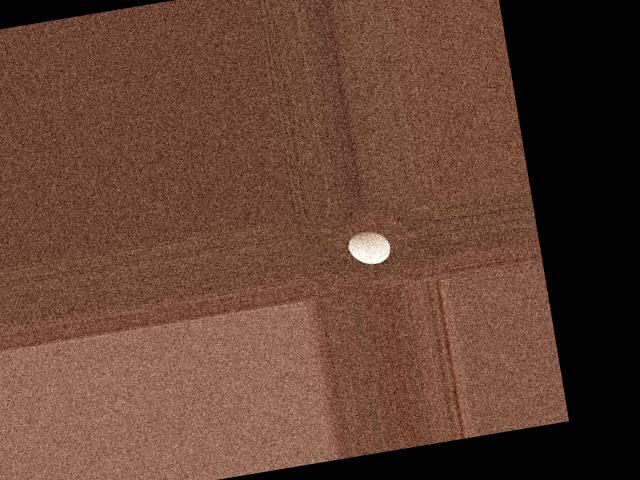egg: (345, 228, 391, 267)
